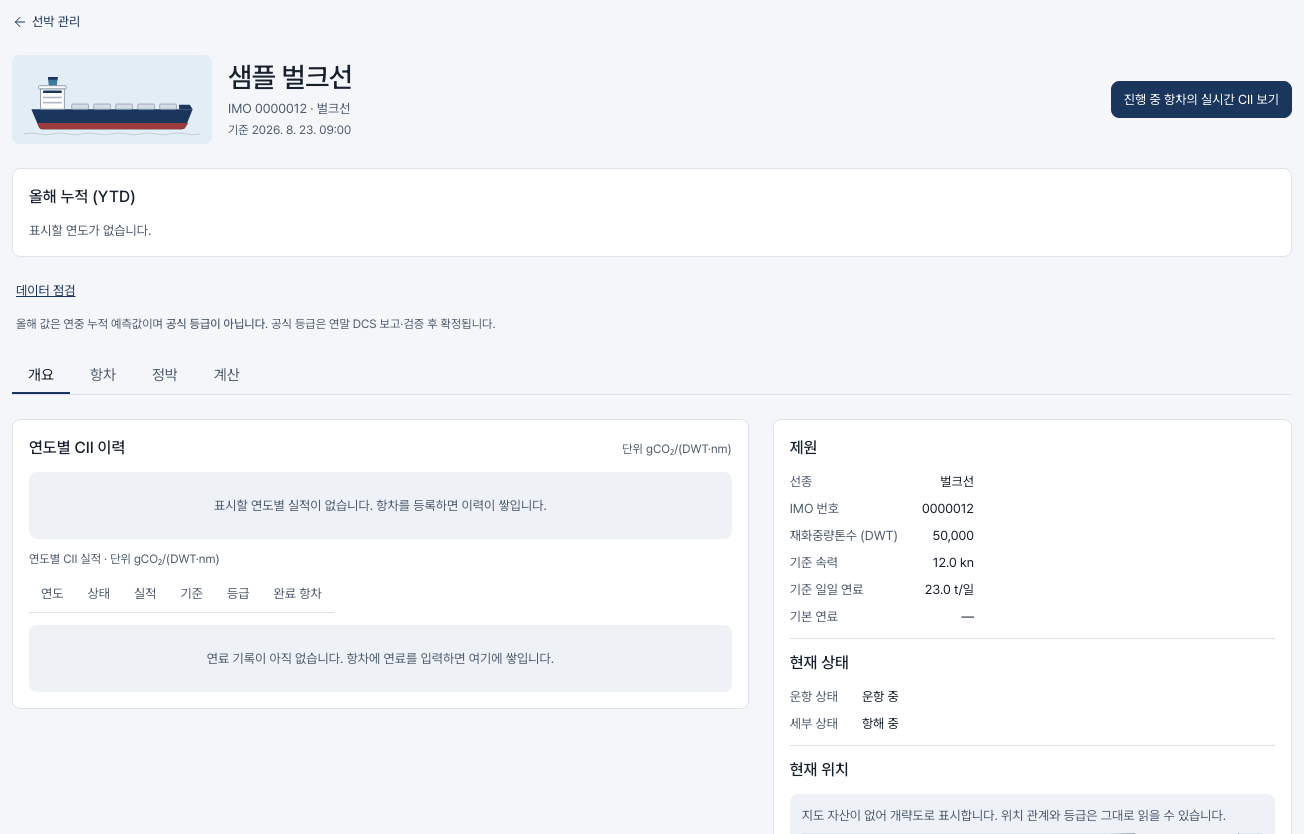
실시간 CII 입구 (#588 · #1415) › Escape로 닫히고 초점이 버튼으로 돌아온다
The image size is (1304, 834).
Step 1. Click the button "진행 중 항차의 실시간 CII 보기" → [1201, 100], box left=1111, top=81, right=1292, bottom=118
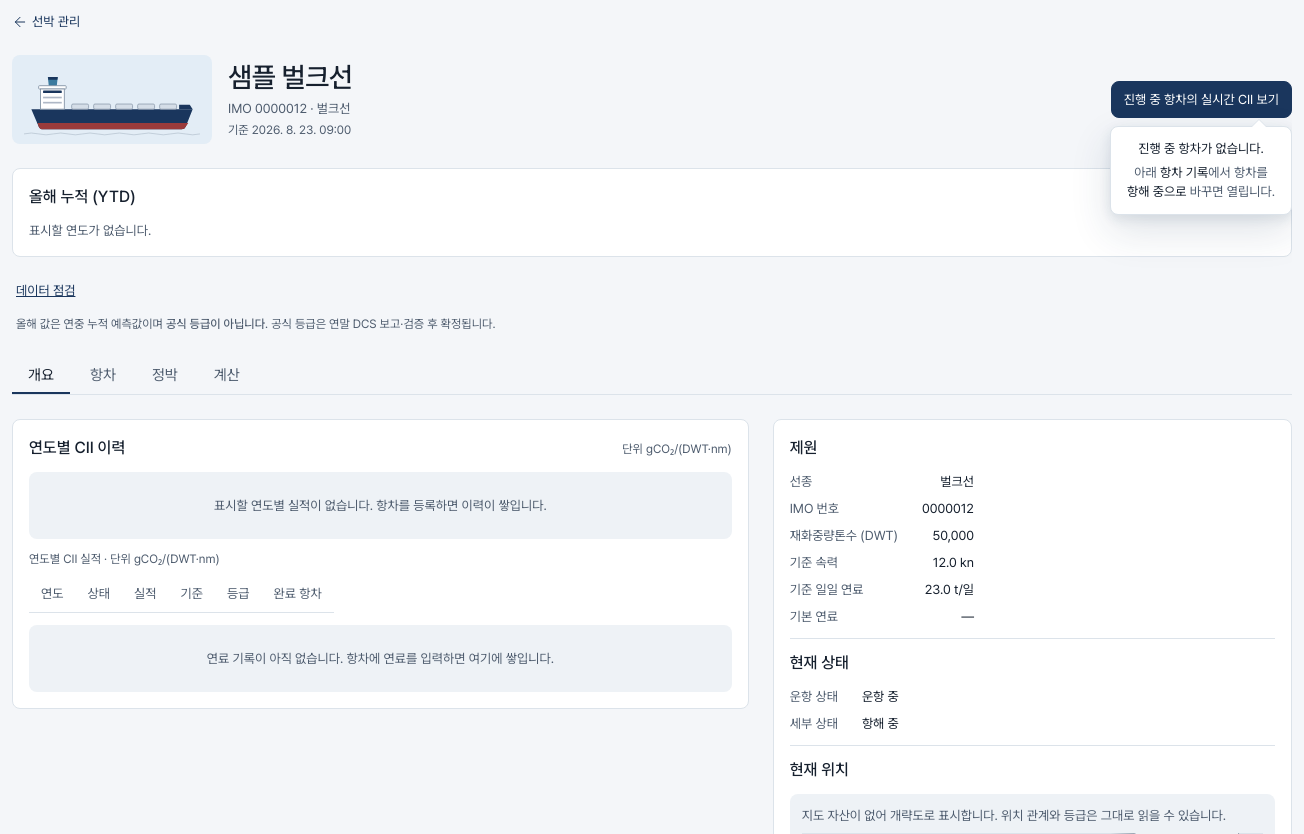
Step 2. Press Escape
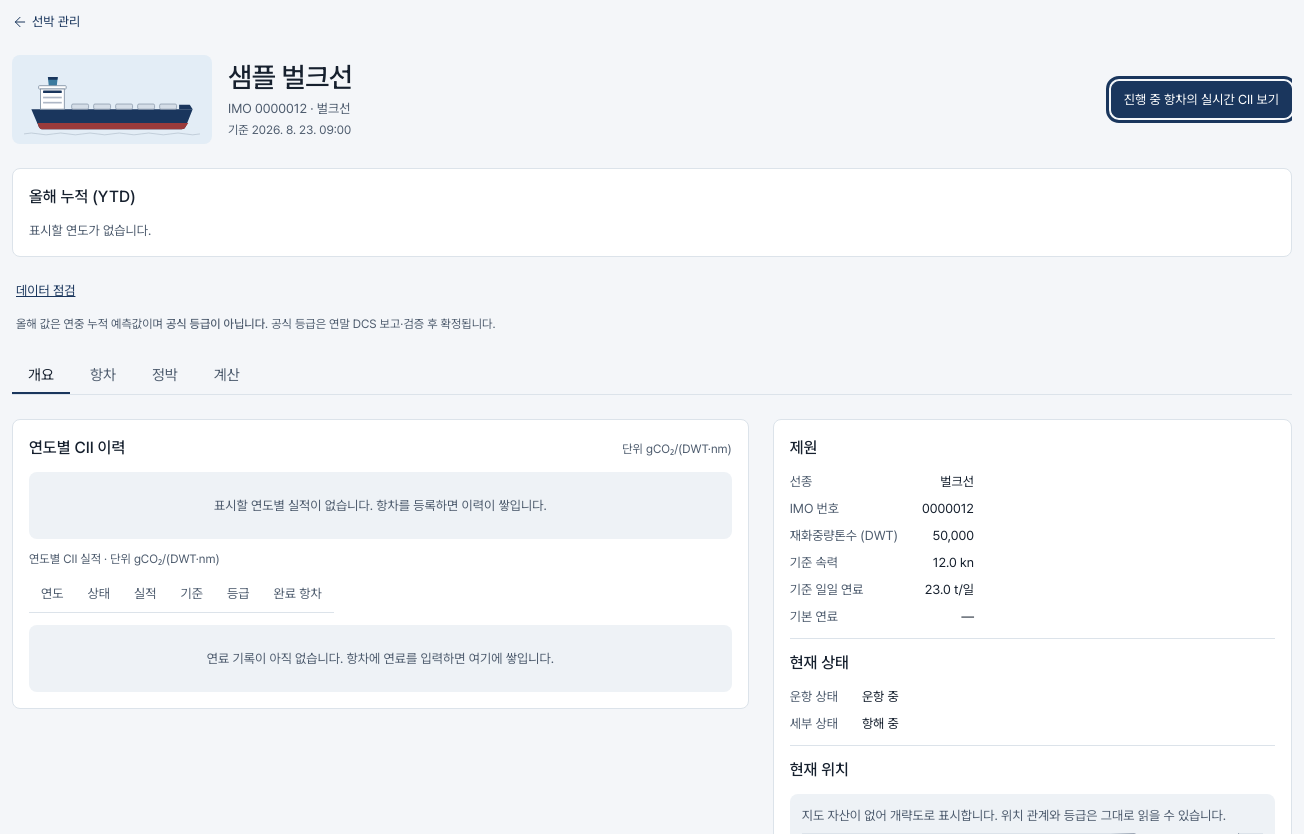
Check: the text "진행 중 항차가 없습니다" is gone
